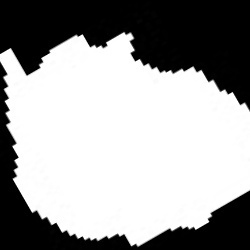spot: (1, 32, 249, 246)
